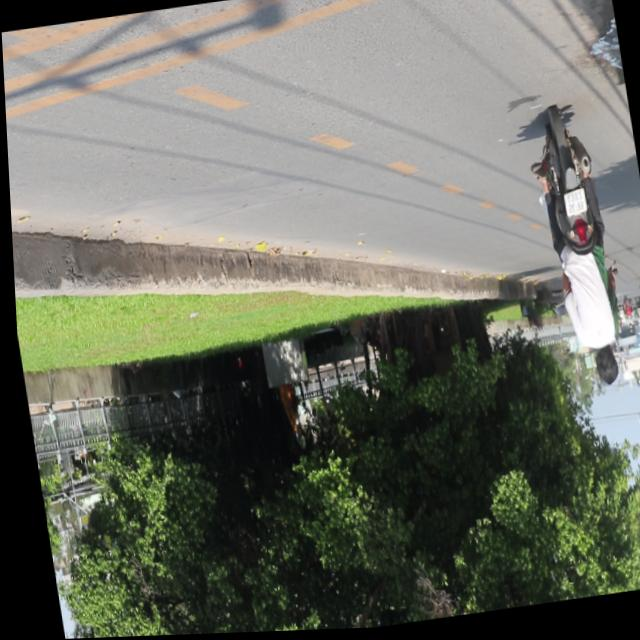licenseplate: (519, 110, 629, 402)
motorcyclist: (586, 350, 616, 393)
nohelmet: (560, 192, 585, 222)
